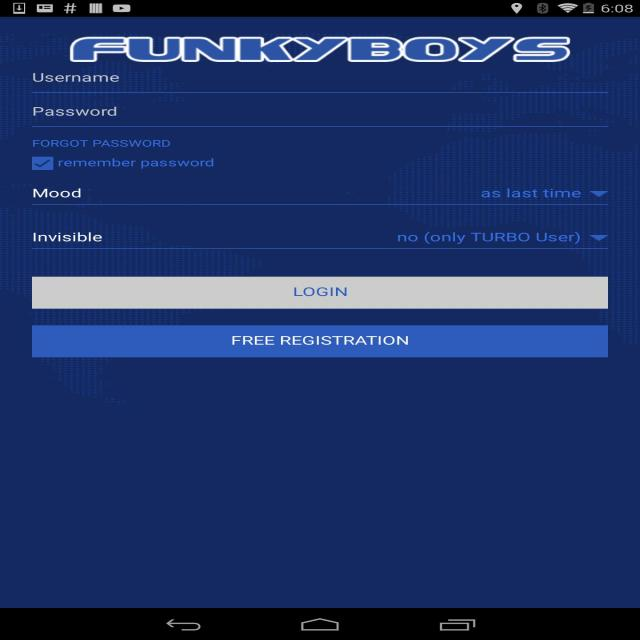button: (32, 277, 607, 309), (25, 218, 612, 249), (33, 326, 608, 357), (26, 176, 612, 204), (30, 156, 56, 171), (588, 231, 611, 246), (587, 187, 608, 200)
field: (28, 98, 608, 126), (26, 65, 606, 91)
heading: (62, 31, 576, 64)
label: (396, 229, 582, 246), (58, 158, 216, 169), (479, 186, 584, 202), (30, 70, 123, 84), (33, 105, 119, 118)
link: (29, 138, 174, 150)
text: (28, 230, 106, 244), (31, 186, 82, 201)
